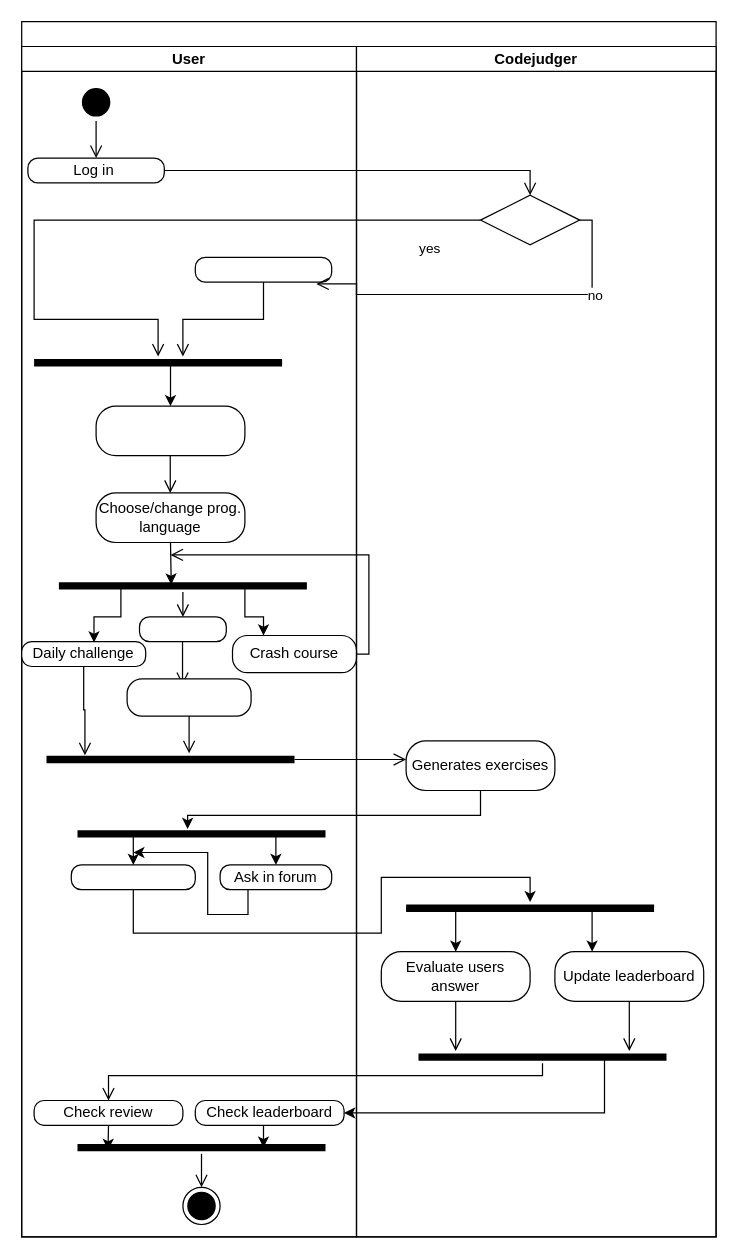
This 738x1259 diagram has some shape labels left out. The shapes that lost their labels are listed below. From the top down, each one's centre as x and y in pixels, then its label:
At (x=529, y=219): "Account exists".
At (x=263, y=269): "Sign up".
At (x=170, y=430): "View notifications".
At (x=182, y=629): "Tournament".
At (x=188, y=697): "Choose level of difficulty".
At (x=132, y=877): "Submits solution".
